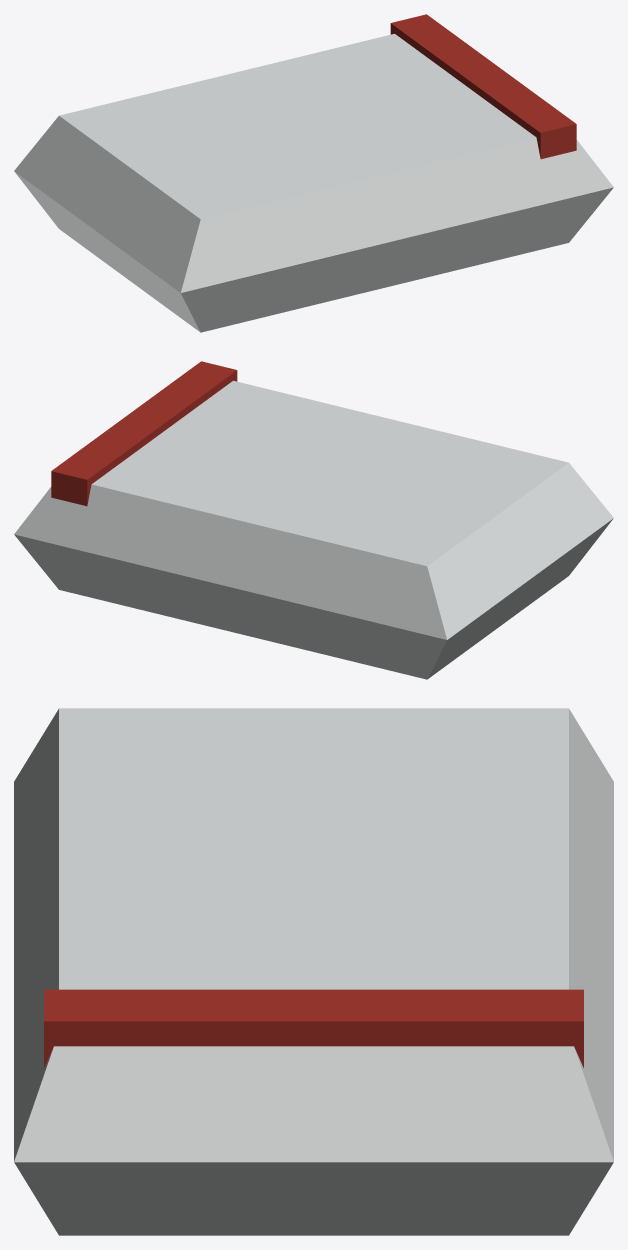
File: Coke_Bag.glb
3 views of the same model, one above another, from view 1: azimuth 30°, elevation 25°; view 2: azimuth 150°, elevation 25°; view 3: azimuth 270°, elevation 25° (orthographic). The views are drawn at different scales.
Visible parts, largest first — view 1: Coke_Bag; view 2: Coke_Bag; view 3: Coke_Bag.
Part boxes in pixels (x1,y1,x2,y2): Coke_Bag: [14, 14, 613, 332]; Coke_Bag: [14, 361, 613, 679]; Coke_Bag: [14, 708, 613, 1235].
Size of the model in its own units: 0.12 by 0.032 by 0.08.
